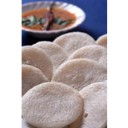idly: (22, 83, 82, 126), (54, 59, 105, 87), (78, 80, 107, 128), (23, 45, 53, 80), (72, 45, 107, 65), (53, 35, 95, 51)
